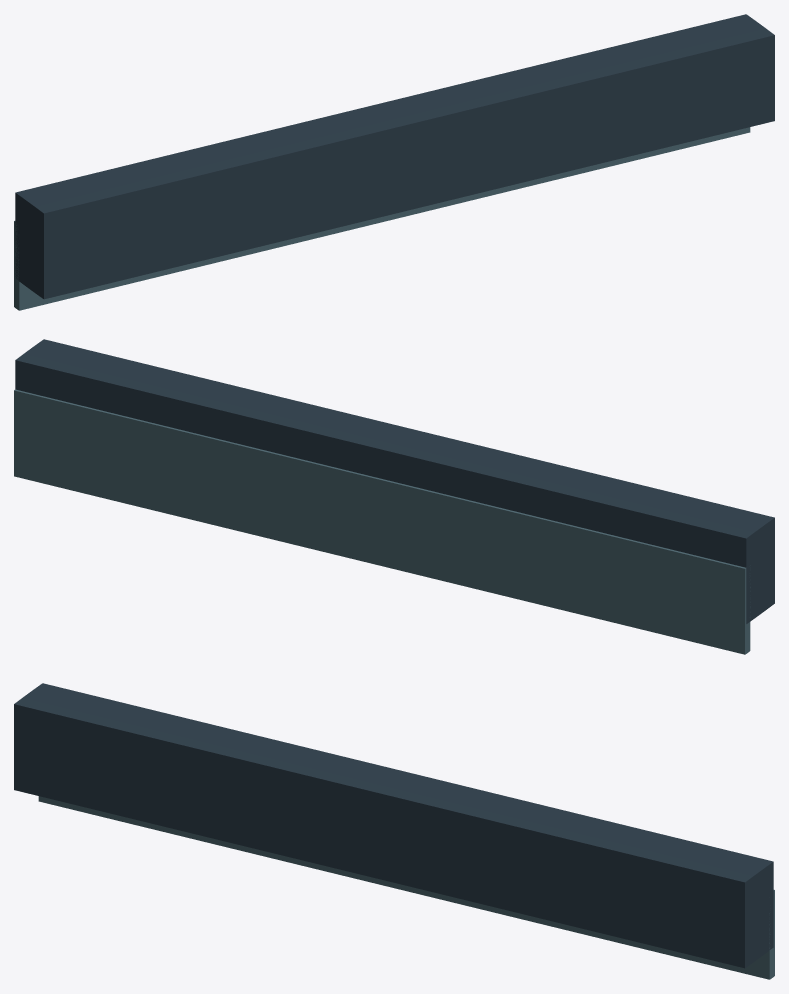
Rendered from SM_SubwayWall1.fbx.
The picture shows the model from 3 angles, top to bottom: view 1: azimuth 30°, elevation 25°; view 2: azimuth 150°, elevation 25°; view 3: azimuth 330°, elevation 25°; orthographic projection.
Visible parts, largest first — view 1: pasted__pasted__pCube509; view 2: pasted__pasted__pCube509; view 3: pasted__pasted__pCube509.
Part boxes in pixels (x1,y1,x2,y2): pasted__pasted__pCube509: [14, 14, 774, 310]; pasted__pasted__pCube509: [14, 339, 774, 654]; pasted__pasted__pCube509: [14, 683, 774, 979].
Bounding box in the file's own units: 2178 × 329 × 154.
